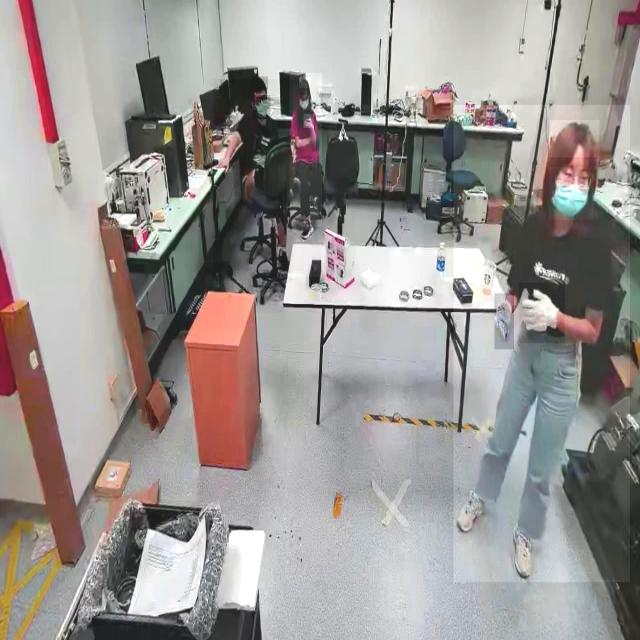face_mask: (549, 167, 593, 220), (253, 95, 271, 119), (298, 88, 311, 113)
hand_glove: (519, 283, 565, 343), (494, 294, 514, 349)
hand_noglove: (215, 158, 231, 172), (304, 114, 314, 128)
head_nohelmet: (549, 120, 599, 157), (252, 76, 268, 90), (298, 77, 310, 89)
person: (453, 105, 630, 583), (213, 79, 293, 282), (290, 73, 322, 227)
shoes: (509, 515, 536, 585), (455, 488, 489, 538), (299, 217, 315, 243)
